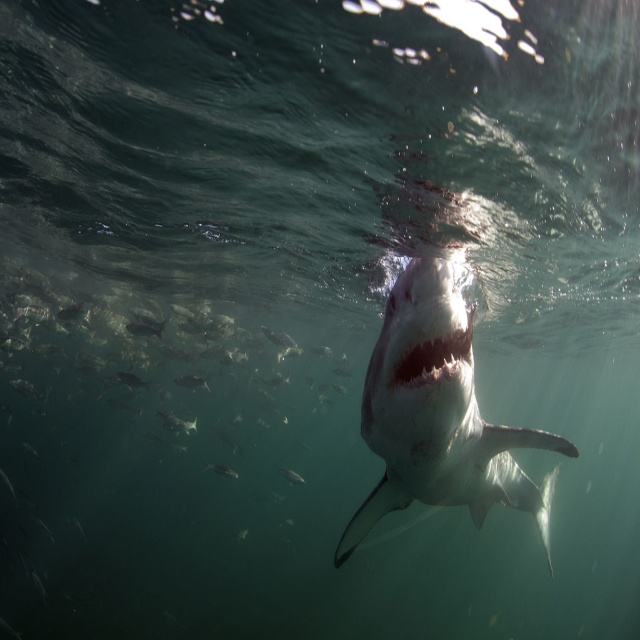Shark: (336, 253, 580, 576)
